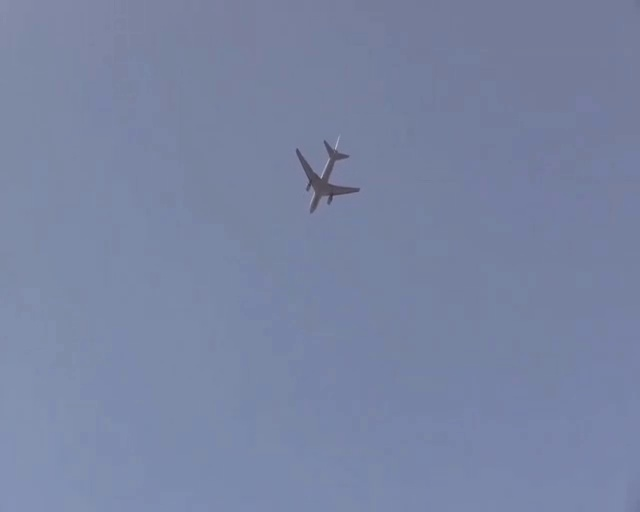AIRPLANE: (295, 135, 360, 213)
